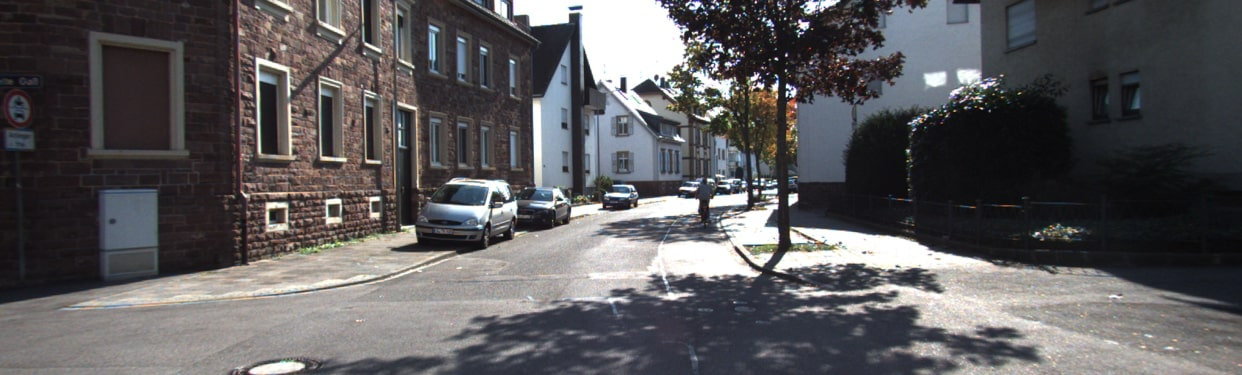Cyclist: (697, 174, 714, 232)
car: (405, 173, 522, 247), (511, 183, 574, 229), (604, 179, 637, 210)
